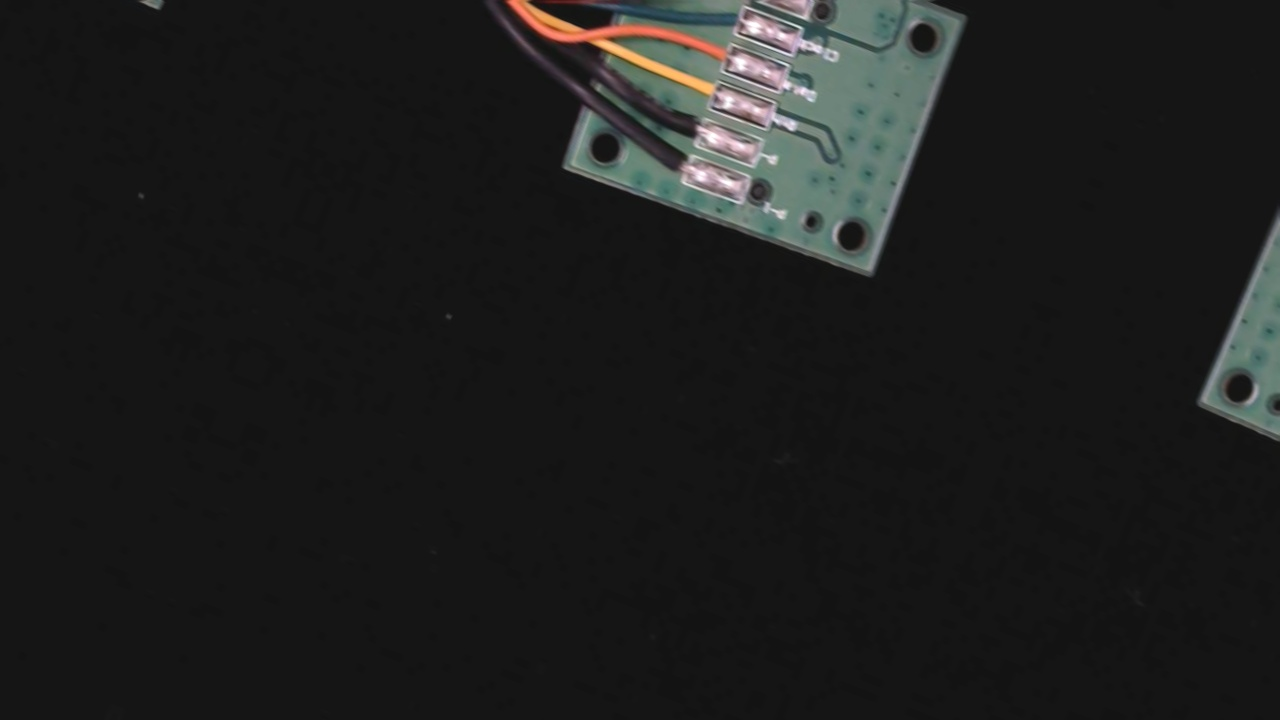Black: (650, 99, 722, 152)
Black1: (634, 135, 709, 188)
Green: (690, 0, 762, 40)
Orange: (681, 27, 747, 77)
Red: (704, 0, 776, 1)
Yellow: (660, 60, 736, 113)
